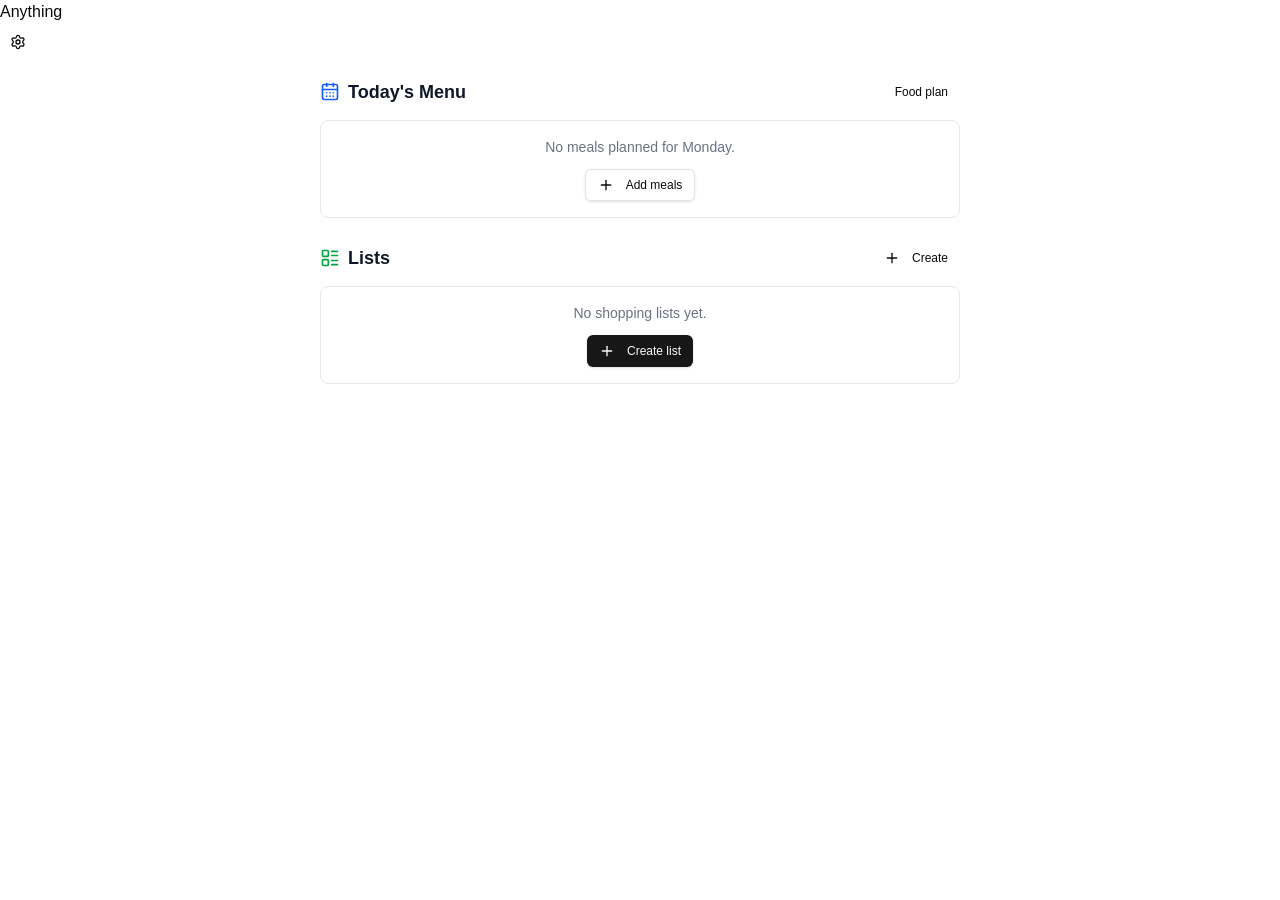
Test: Home Page Integration Tests › should open the create list dialog when "Create" is clicked in the Lists section
Expected: the heading "Lists" is shown, [348,244,390,272]
Click the button "Create" at coordinates (916, 258), box [872,242,960,274]
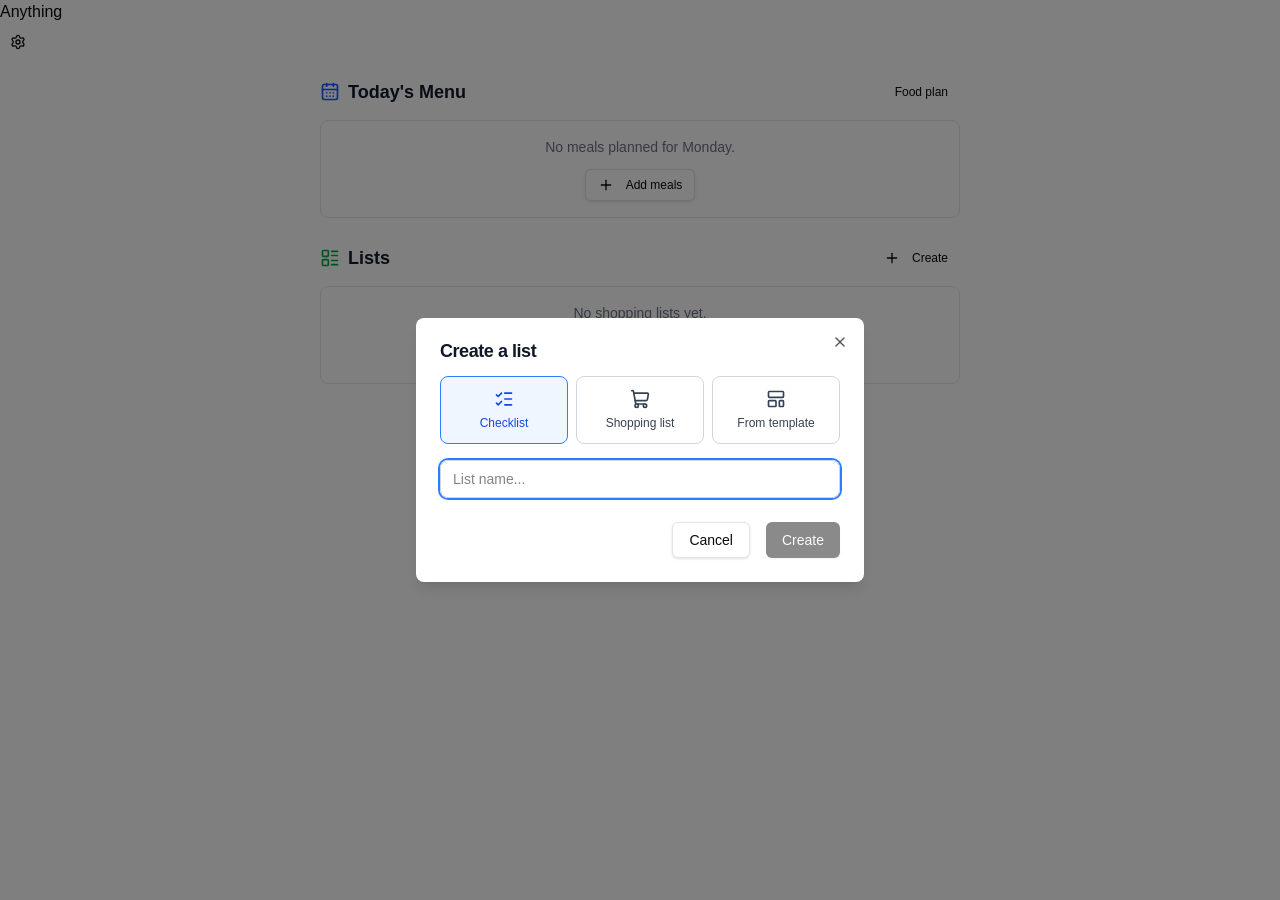
Expected: the heading "Create a list" is shown, [440,341,536,361]
